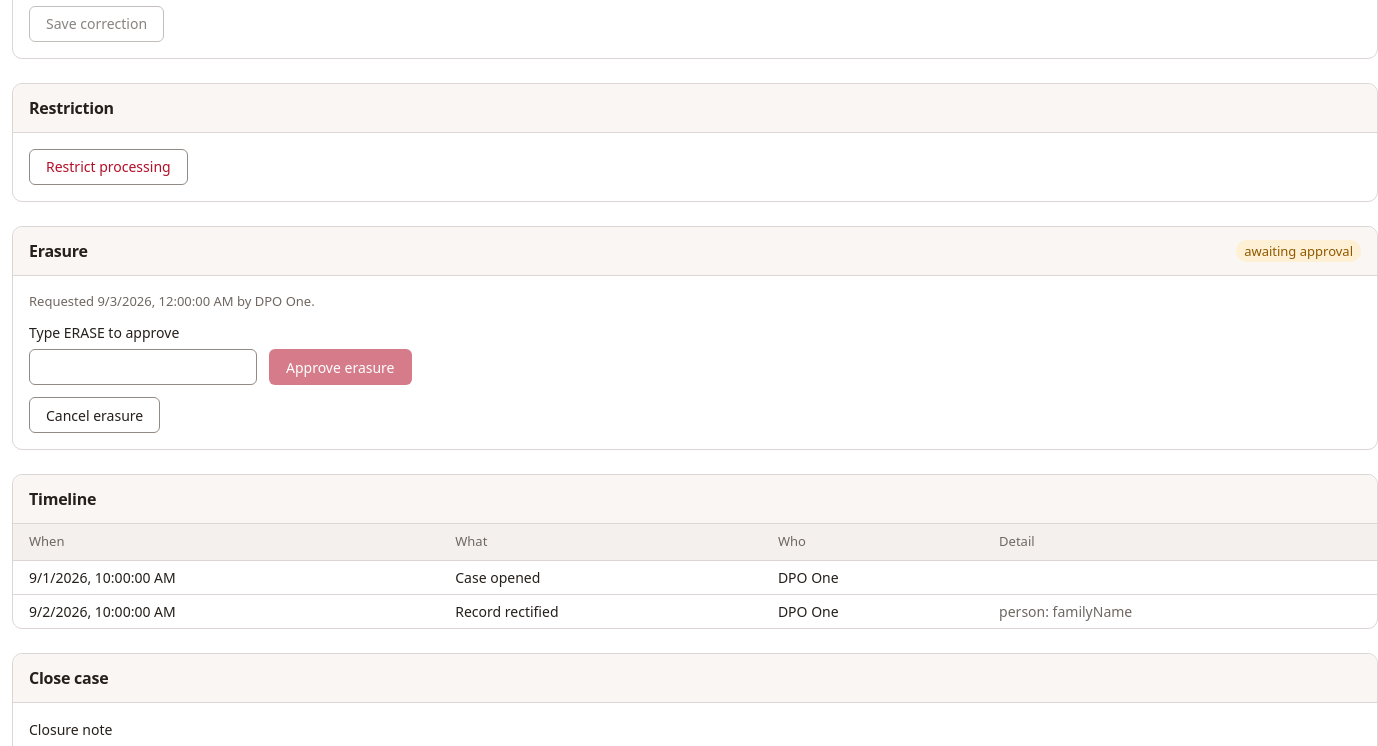
Test case: PrivacyCasePage › lets a second administrator approve after typing ERASE, and shows a refusal in the server's words
(page scrolled)
Check: the button "Approve erasure" is disabled, box [269,350,412,386]
Type "ERASE" into the field labelled "Type ERASE to approve".
click(143, 368); type("ERASE")  # box [29,350,257,386]
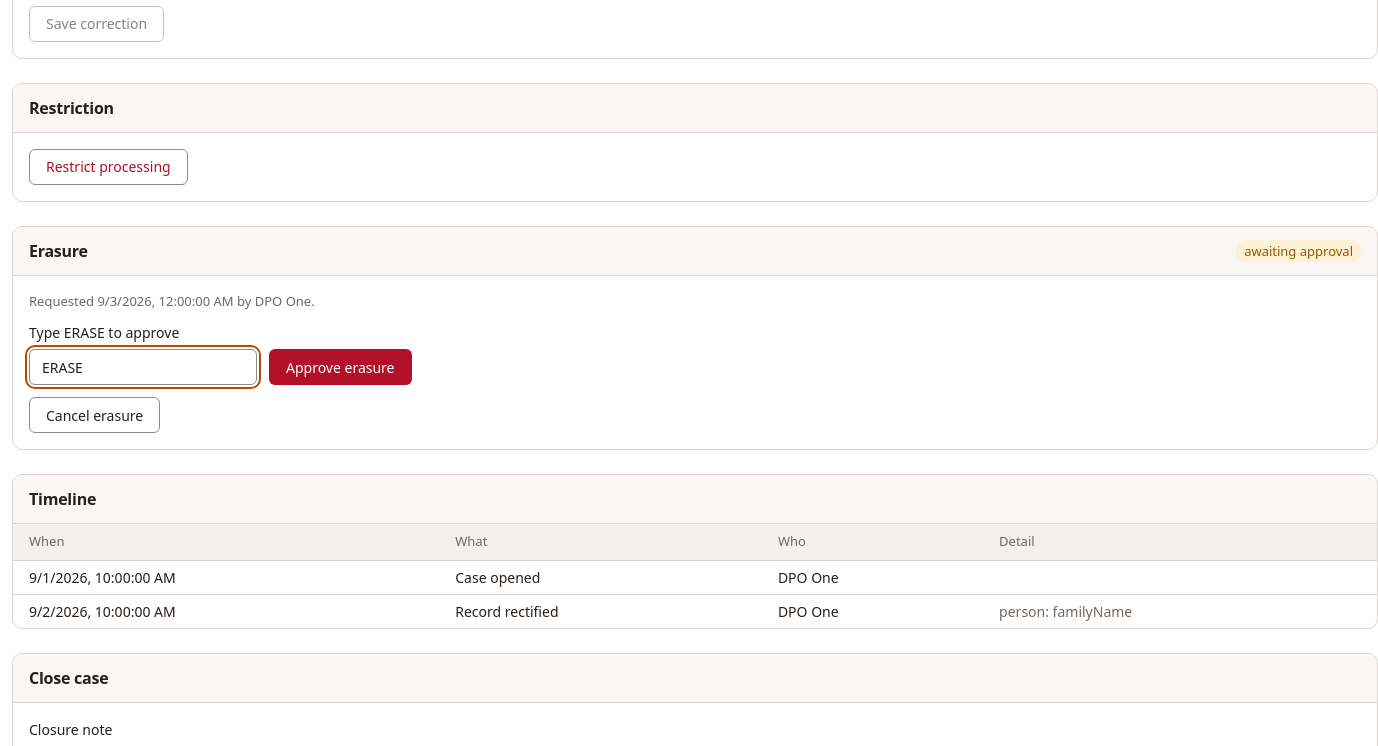
Check: the button "Approve erasure" is enabled
Click the button "Approve erasure".
click(340, 368)  # box [269,350,412,386]
(page scrolled)
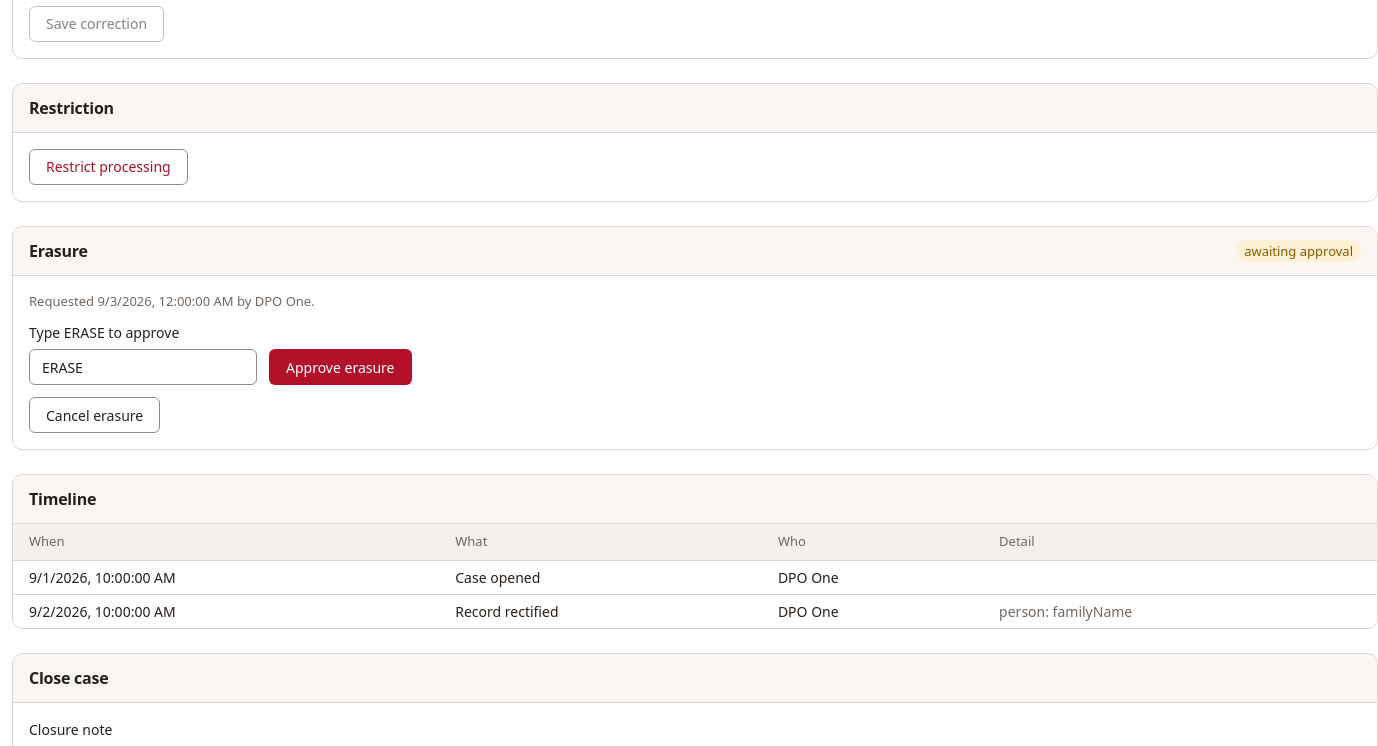
Click the button "Approve erasure".
click(340, 368)  # box [269,350,412,386]
(page scrolled)
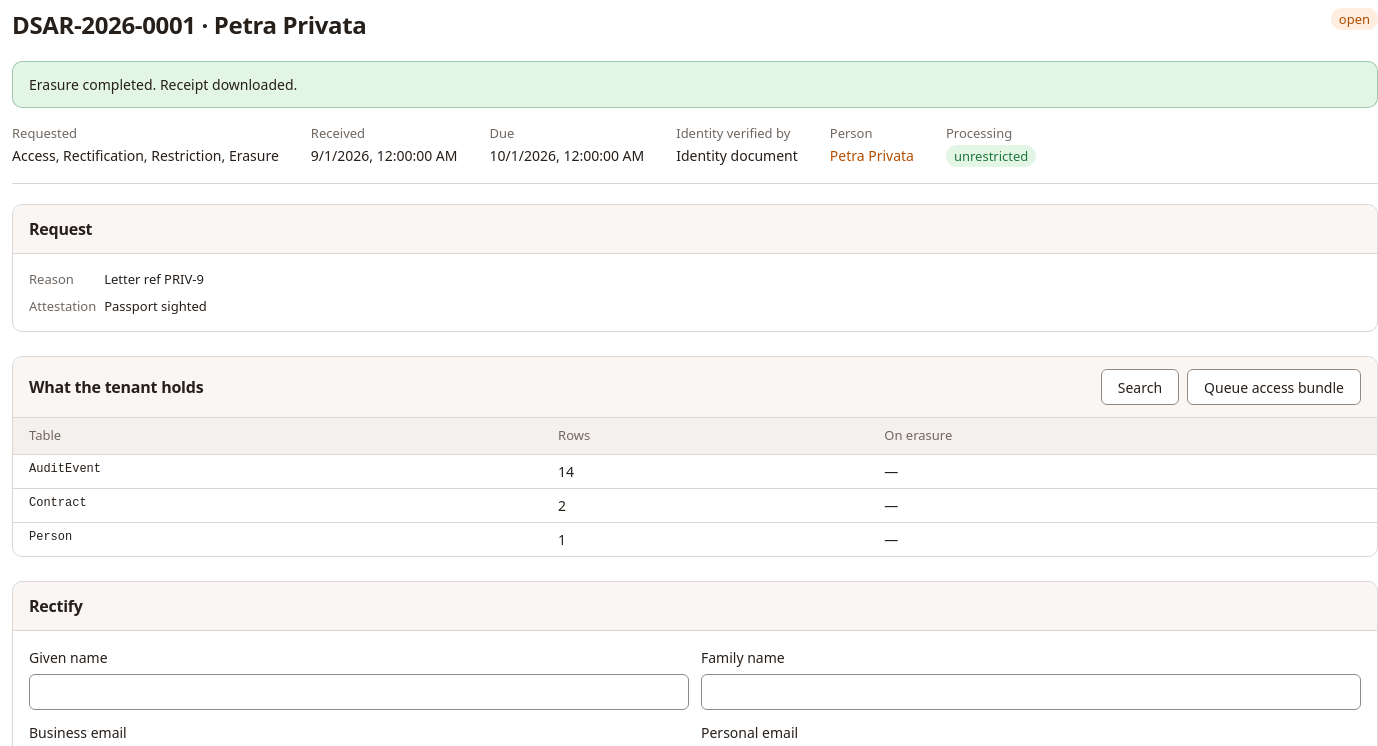
Check: the text "Erasure completed. Receipt downloaded." is shown, box [29,75,297,94]
